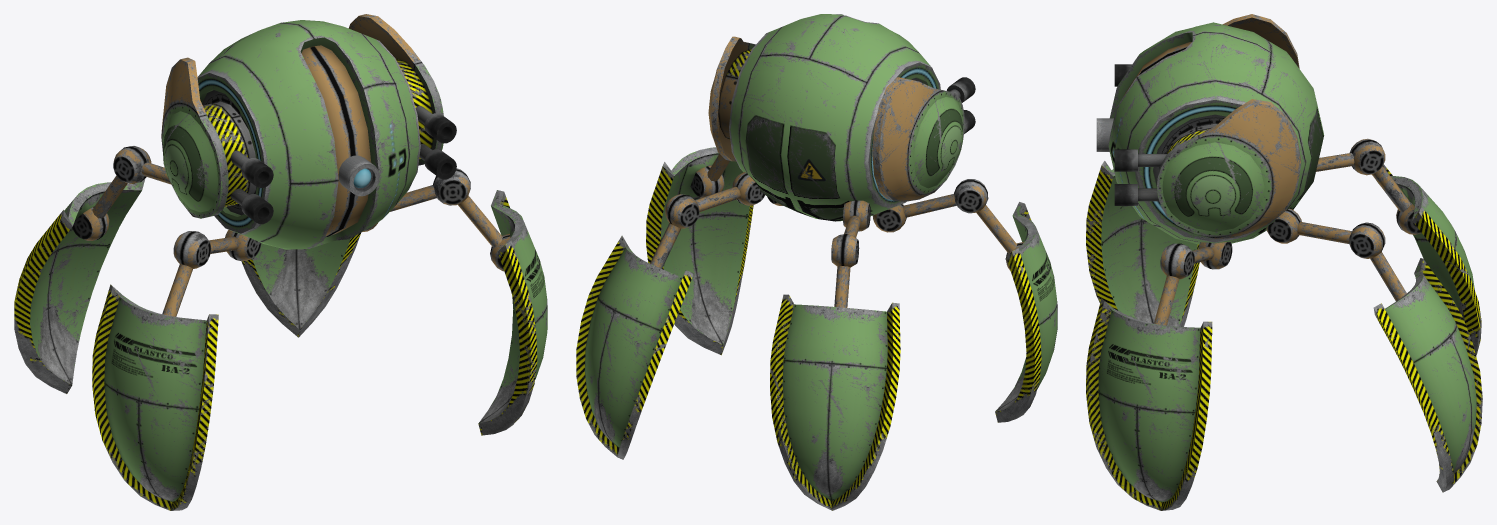
3 renders of one model, left to right at view 1: azimuth 30°, elevation 25°; view 2: azimuth 150°, elevation 25°; view 3: azimuth 270°, elevation 25°, orthographic. The views are drawn at different scales.
Visible parts, largest first — view 1: Bot.Mesh; view 2: Bot.Mesh; view 3: Bot.Mesh.
Part boxes in pixels (left/top/right/bottom): Bot.Mesh: left=14, top=14, right=547, bottom=510; Bot.Mesh: left=576, top=14, right=1057, bottom=510; Bot.Mesh: left=1086, top=14, right=1482, bottom=510.
Bounding box in the file's own units: 3.98 × 3.74 × 3.31.
